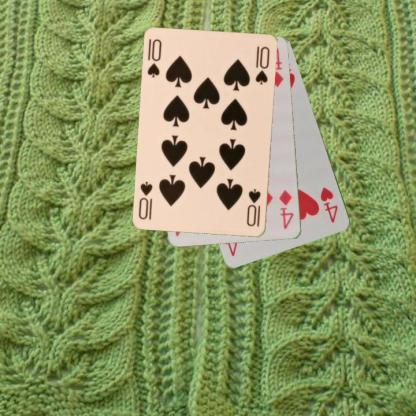10s: (145, 36, 163, 80), (244, 186, 262, 228)
4d: (276, 188, 295, 230)
4h: (318, 184, 340, 225)
